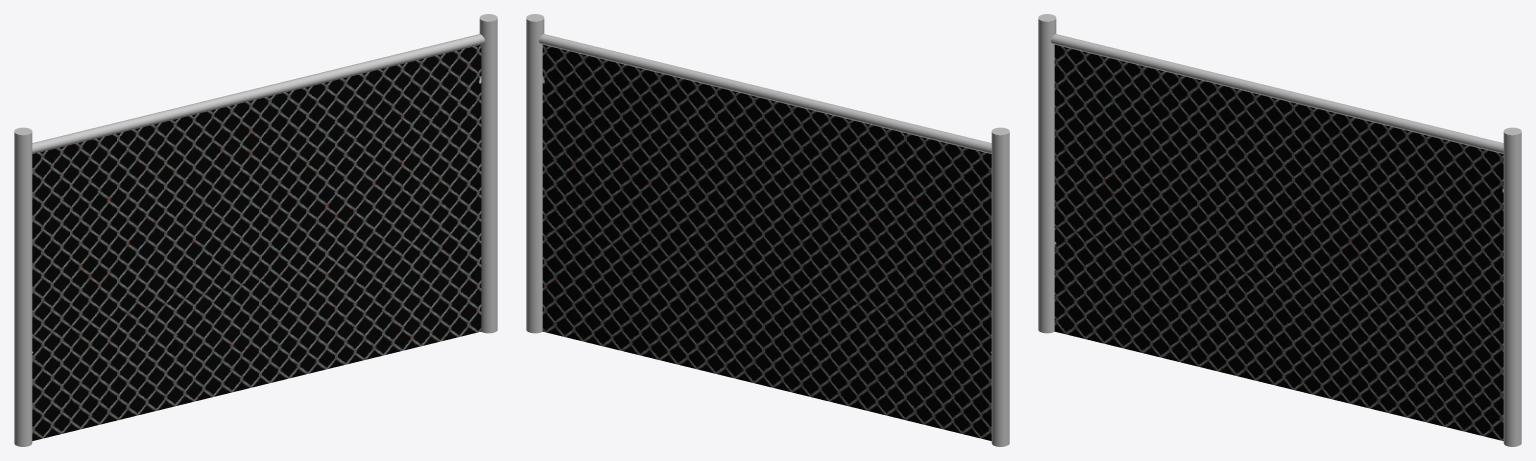
File: Fence.fbx
The picture shows the model from 3 angles, left to right: view 1: azimuth 30°, elevation 25°; view 2: azimuth 150°, elevation 25°; view 3: azimuth 330°, elevation 25°; orthographic projection.
Visible parts, largest first — view 1: Fence; view 2: Fence; view 3: Fence.
Part boxes in pixels (bbox=[...]): Fence: bbox=[14, 14, 497, 446]; Fence: bbox=[526, 14, 1009, 446]; Fence: bbox=[1038, 14, 1521, 446].
Size of the model in its own units: 103 by 64 by 3.4.
2 materials, 1 textured.
